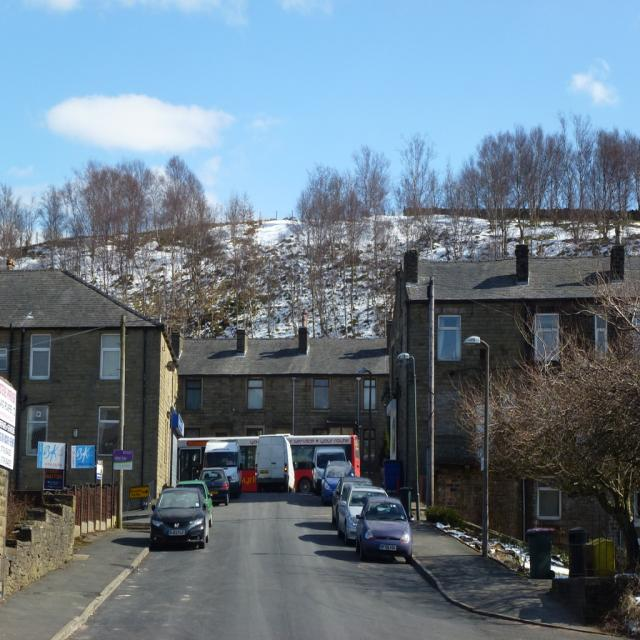car: (148, 483, 209, 547)
